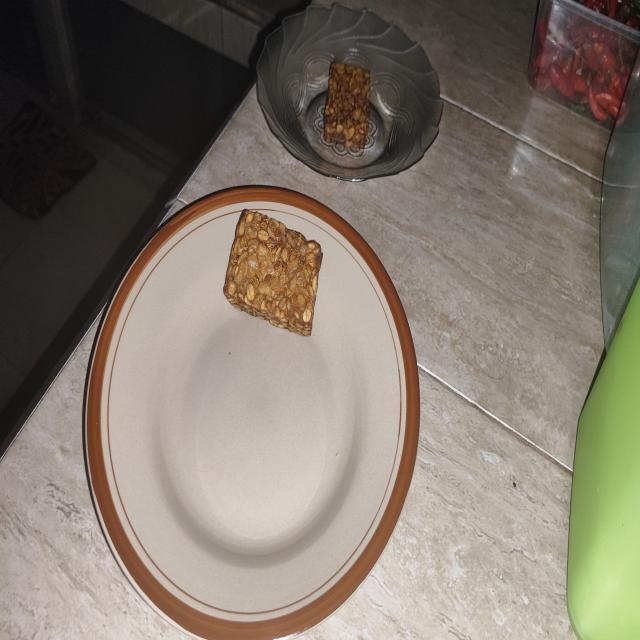tempe_goreng: (224, 210, 322, 336), (324, 61, 370, 150)
